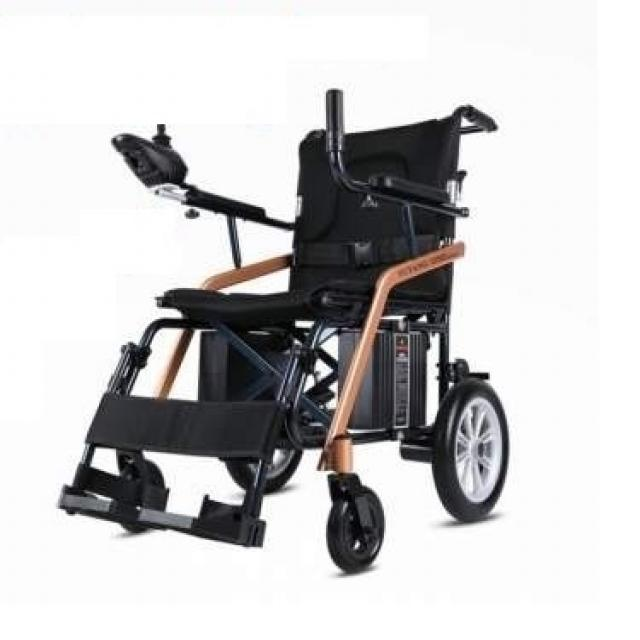wheelchair: (52, 80, 566, 582)
